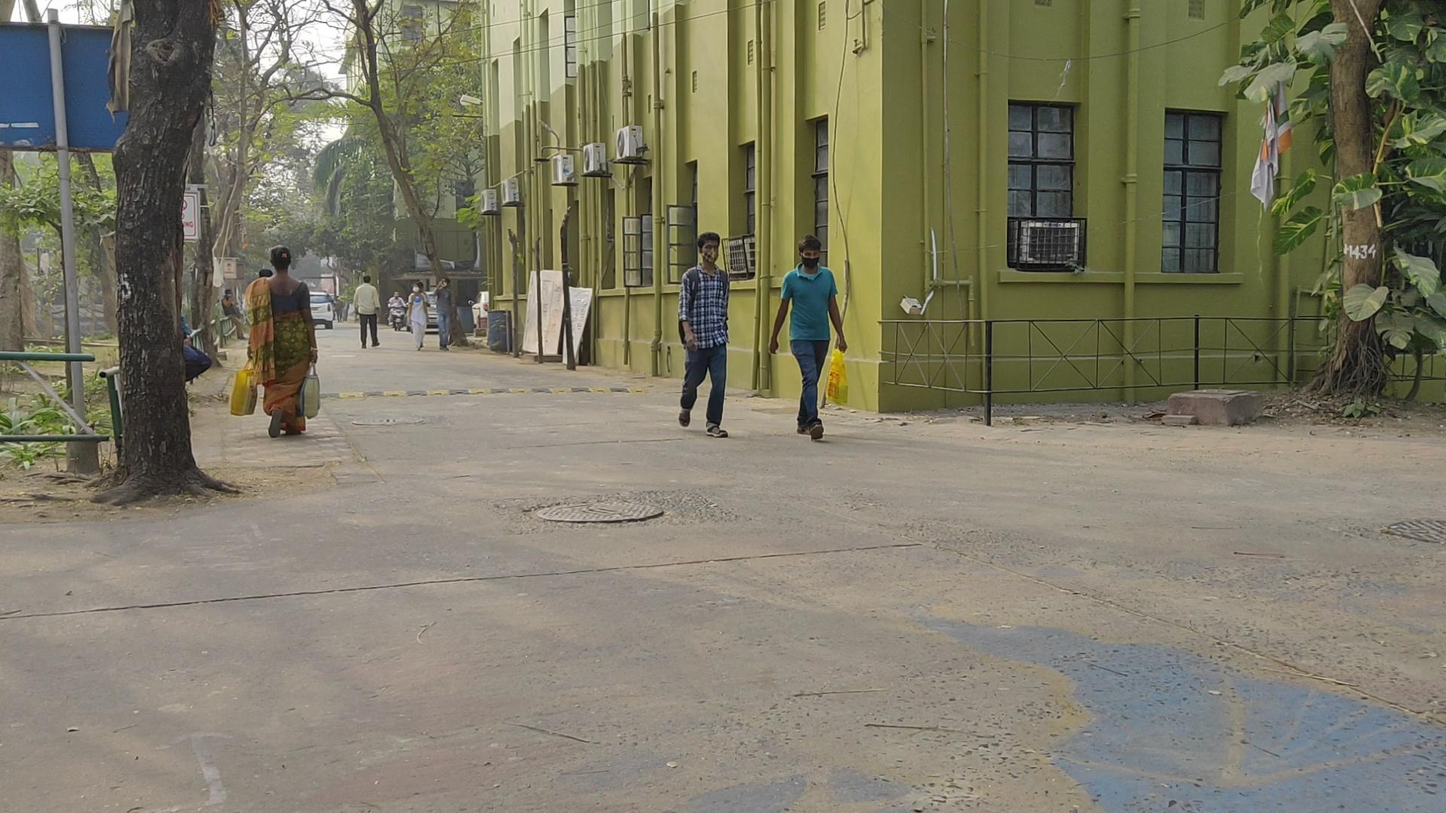bike: (386, 291, 408, 331)
car: (304, 291, 334, 330)
